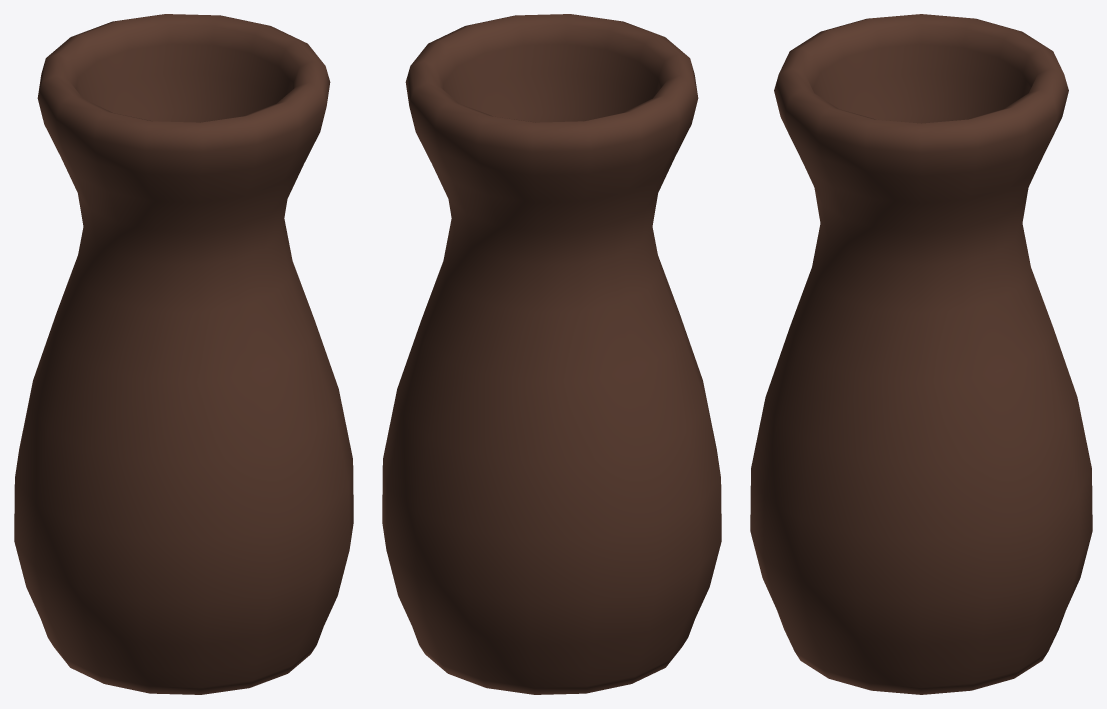
File: Vase.fbx
The picture shows the model from 3 angles, left to right: view 1: azimuth 30°, elevation 25°; view 2: azimuth 150°, elevation 25°; view 3: azimuth 270°, elevation 25°; orthographic projection.
Visible parts, largest first — view 1: Cylinder; view 2: Cylinder; view 3: Cylinder.
Boxes of the visible parts, x1,y1,x2,y2 form: Cylinder: (14, 14, 353, 694); Cylinder: (382, 14, 721, 694); Cylinder: (750, 14, 1092, 694).
Bounding box in the file's own units: 30.66 × 56.73 × 30.66.
